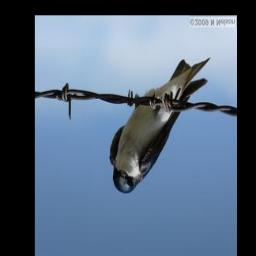Swallow: (108, 58, 209, 194)
